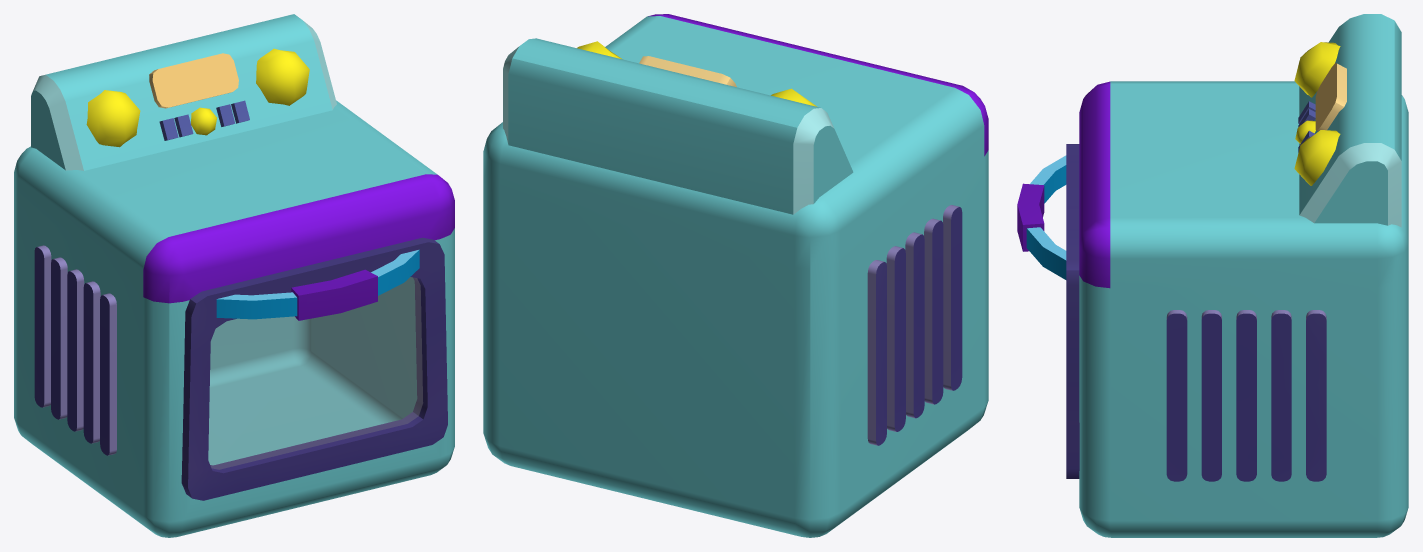
The model's file is Lo_nuong_banh_3.fbx.
3 views of the same model, side by side, from view 1: azimuth 30°, elevation 25°; view 2: azimuth 150°, elevation 25°; view 3: azimuth 270°, elevation 25° (orthographic). The views are drawn at different scales.
Visible parts, largest first — view 1: Lo_nuong_banh_3; view 2: Lo_nuong_banh_3; view 3: Lo_nuong_banh_3.
Part boxes in pixels (left/top/right/bottom): Lo_nuong_banh_3: left=14, top=14, right=454, bottom=537; Lo_nuong_banh_3: left=483, top=14, right=988, bottom=537; Lo_nuong_banh_3: left=1017, top=14, right=1408, bottom=537.
Size of the model in its own units: 143 by 155 by 141.
